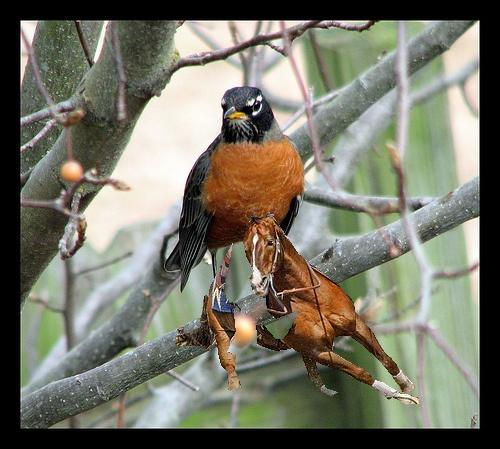tampered: (176, 213, 419, 404)
